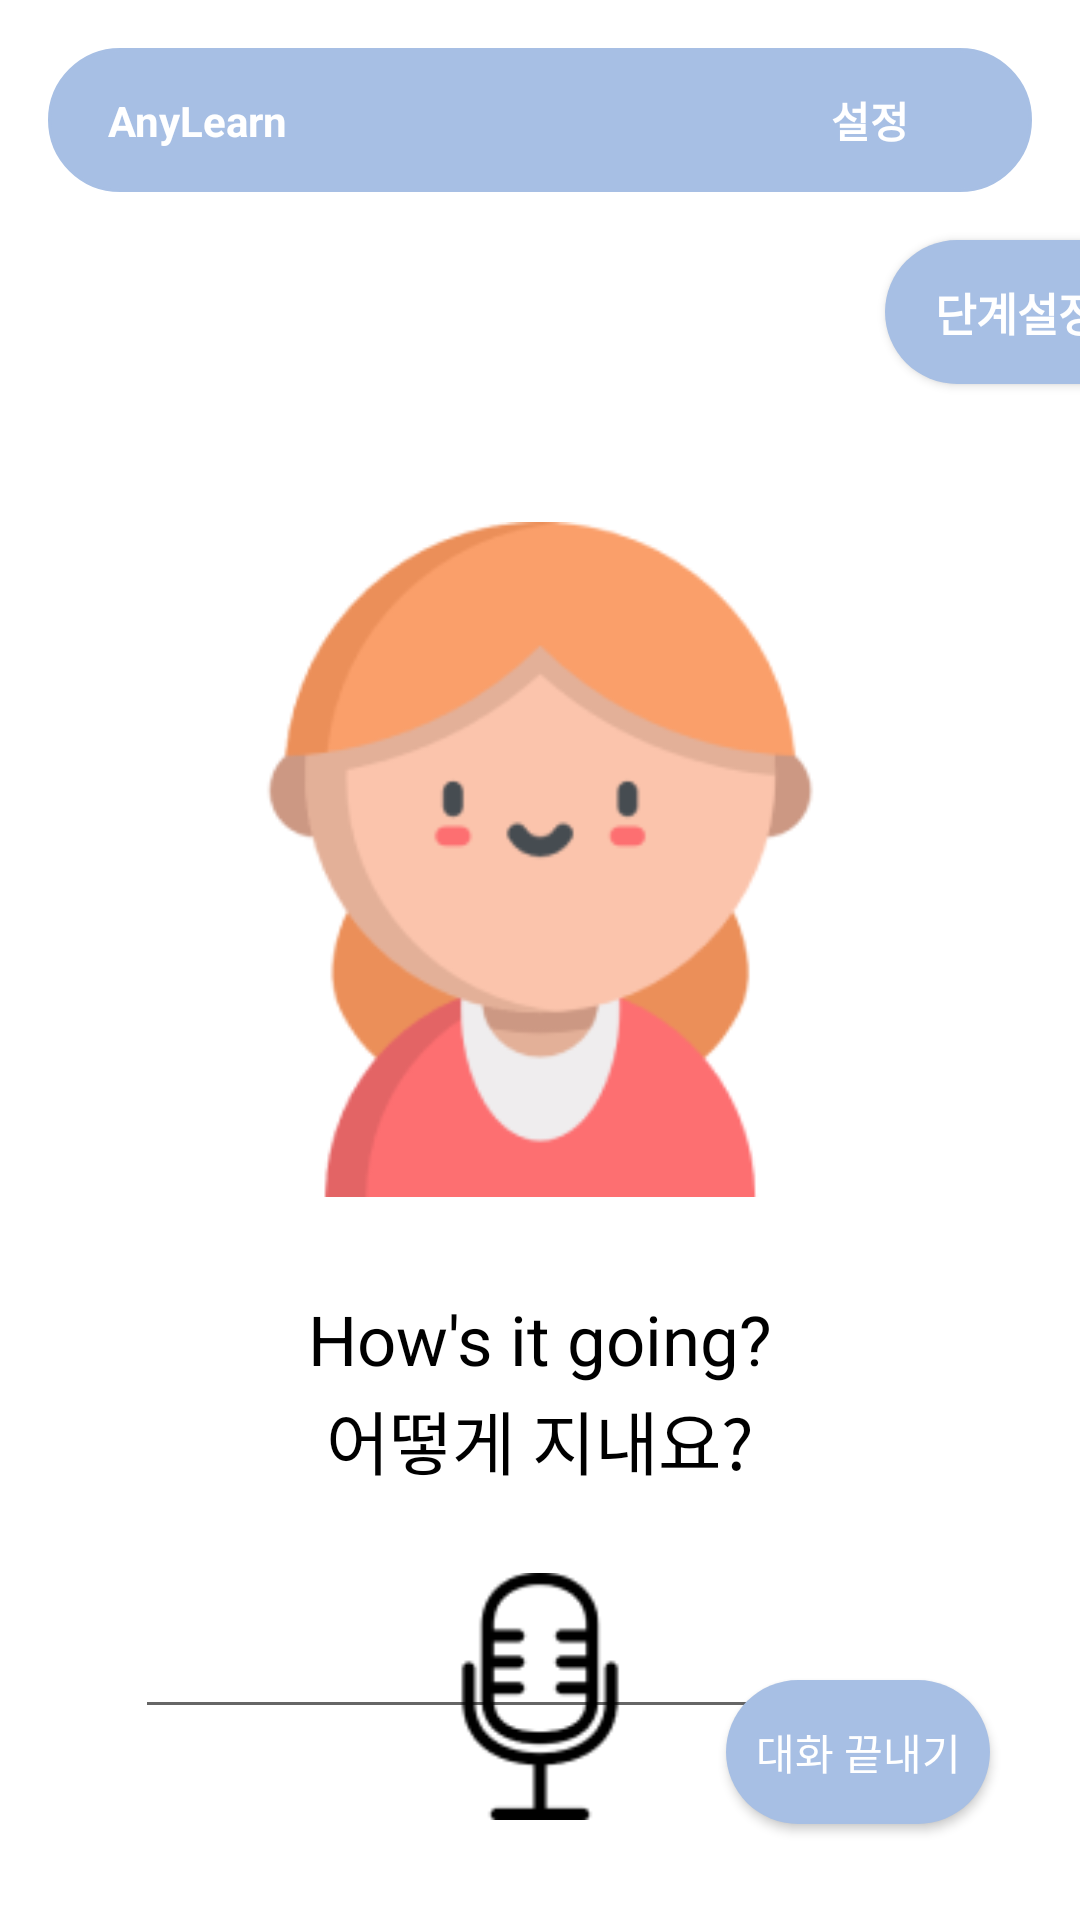

Icon bounding boxes for this 1080 x 1920 phone screenshot, format (left=x1, top=y1, right=x2, bottom=y2):
record: (left=450, top=1573, right=630, bottom=1820)
